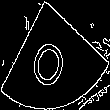O_NE: (31, 22, 79, 88)
